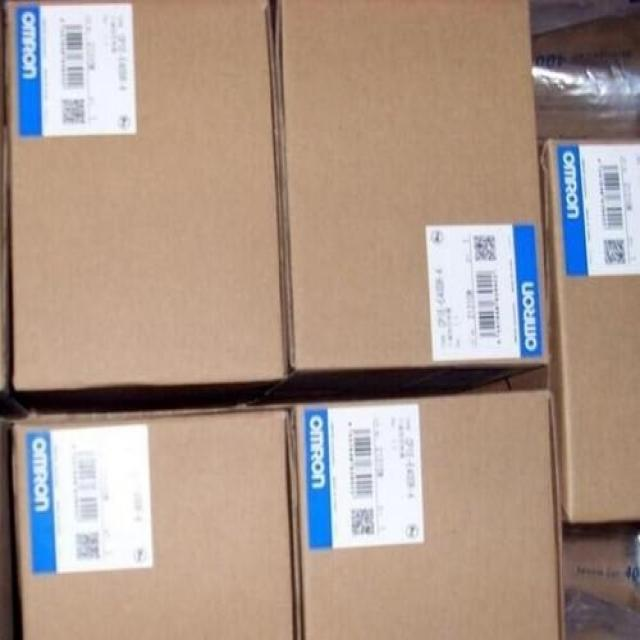box: (5, 0, 289, 389), (275, 0, 552, 373), (288, 391, 565, 638), (11, 410, 293, 639), (509, 139, 639, 522)
